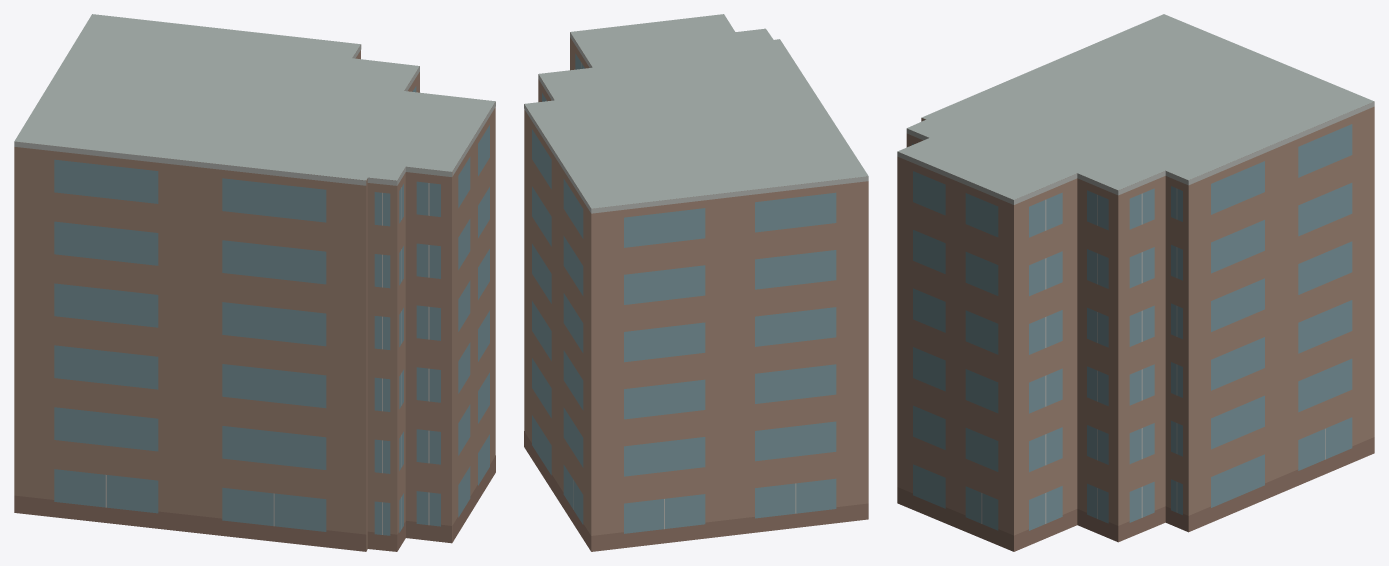
Rendered from survey-upis-32663901.glb.
3 views of the same model, side by side, from view 1: azimuth 30°, elevation 25°; view 2: azimuth 150°, elevation 25°; view 3: azimuth 270°, elevation 25° (orthographic). The views are drawn at different scales.
Visible parts, largest first — view 1: survey-upis-32663901.tmp; view 2: survey-upis-32663901.tmp; view 3: survey-upis-32663901.tmp.
Boxes of the visible parts, <box> form: survey-upis-32663901.tmp: <box>14,14,495,551</box>; survey-upis-32663901.tmp: <box>524,14,868,551</box>; survey-upis-32663901.tmp: <box>897,14,1374,551</box>.
Size of the model in its own units: 19.28 by 17 by 20.9.
